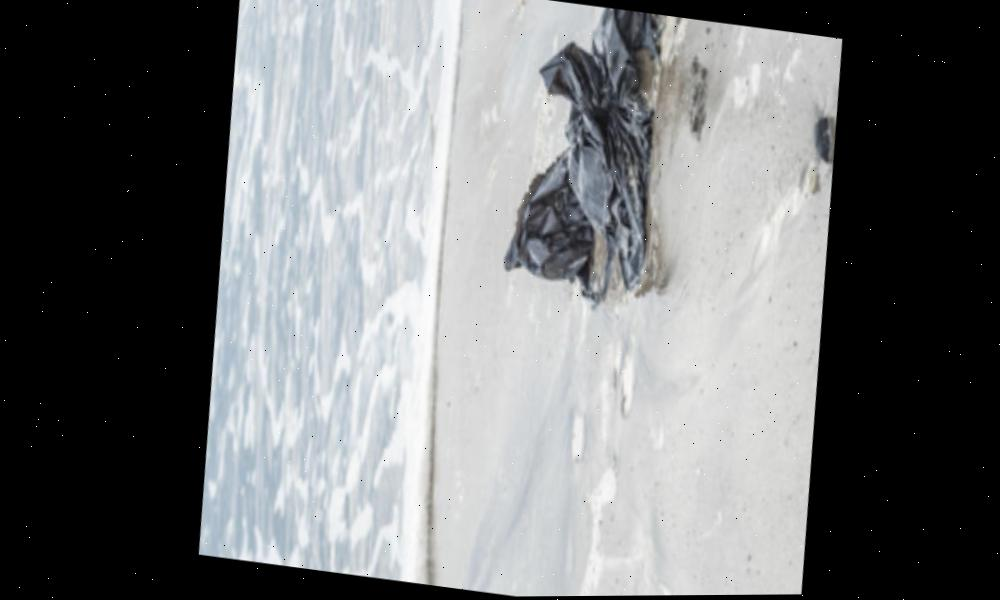plastic bag: (465, 0, 694, 311)
